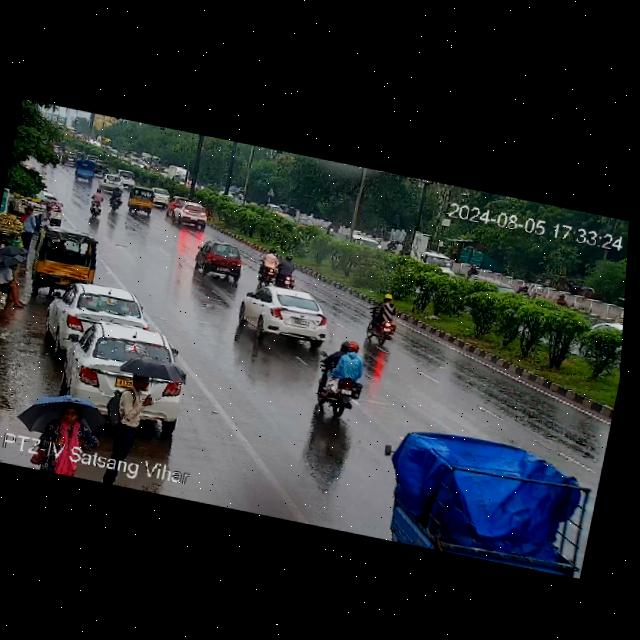car: (362, 412, 598, 579), (62, 314, 184, 407), (228, 280, 339, 355), (46, 277, 148, 355), (29, 223, 107, 296), (191, 237, 249, 286), (16, 188, 68, 225), (171, 200, 213, 231), (418, 250, 458, 279), (124, 185, 158, 218), (71, 155, 99, 182), (95, 172, 125, 192), (113, 169, 139, 187), (165, 194, 184, 218), (150, 186, 174, 204), (96, 160, 111, 174)
motorcycle: (308, 334, 371, 423), (352, 288, 405, 349), (256, 248, 298, 291), (86, 186, 107, 220), (107, 187, 124, 212), (555, 291, 573, 305), (466, 263, 482, 278), (517, 283, 533, 295)
person: (104, 353, 156, 458), (43, 399, 102, 449), (0, 261, 32, 310), (17, 206, 39, 250), (39, 203, 57, 226)
